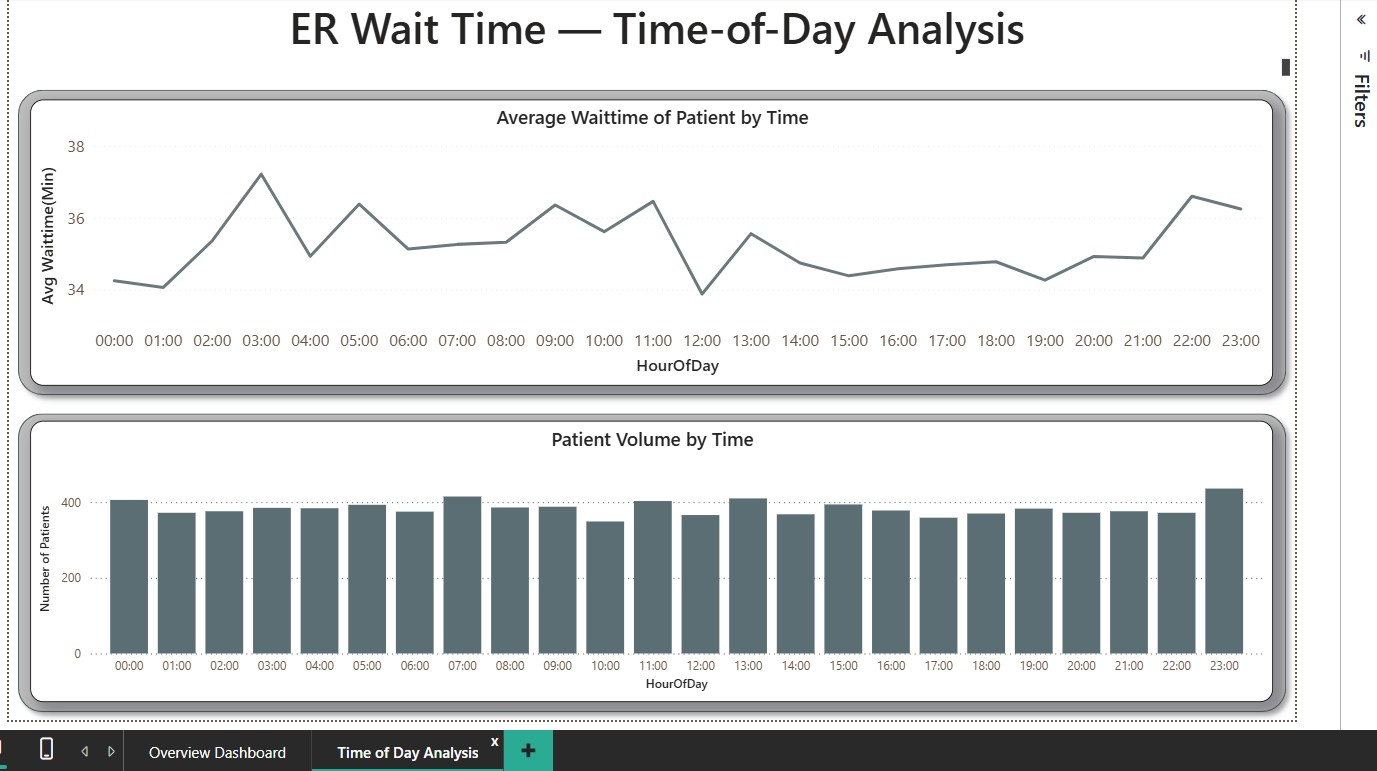

Layout of this report page (visuals, bound fields, positions):
{"tool":"powerbi","page":{"name":"Time of Day Analysis","canvas":[1280,720],"ordinal":1},"visuals":[{"type":"shape","box":[0,83.3,1280,321.7],"z":0},{"type":"shape","box":[0,405,1280,315],"z":1000},{"type":"textbox","title":"ER Wait Time — Time-of-Day Analysis","box":[10,0,1270,83.3],"z":2000},{"type":"lineChart","title":"Average Waittime of Patient by Time","fields":{"Category":["Hospital ER_Data.HourOfDay"],"Y":["Hospital ER_Data.Avg Waittime(Min)"]},"box":[21.7,101.7,1236.7,285],"z":3000},{"type":"clusteredColumnChart","title":"Patient Volume by Time","fields":{"Category":["Hospital ER_Data.HourOfDay"],"Y":["CountNonNull(Hospital ER_Data.Patient_Id)"]},"box":[21.7,421.7,1236.7,280],"z":4000}]}

Visuals, with their boxes on the page's 1280x720 design canvas (x1, y1, x2, y2). These are canvas units, not pixel positions in the 1377x771 screenshot, which may show the page scaled, cropped or inside an application window:
shape: <box>0,83,1280,405</box>
shape: <box>0,405,1280,720</box>
"ER Wait Time — Time-of-Day Analysis" textbox: <box>10,0,1280,83</box>
"Average Waittime of Patient by Time" lineChart: <box>22,102,1258,387</box>
"Patient Volume by Time" clusteredColumnChart: <box>22,422,1258,702</box>
